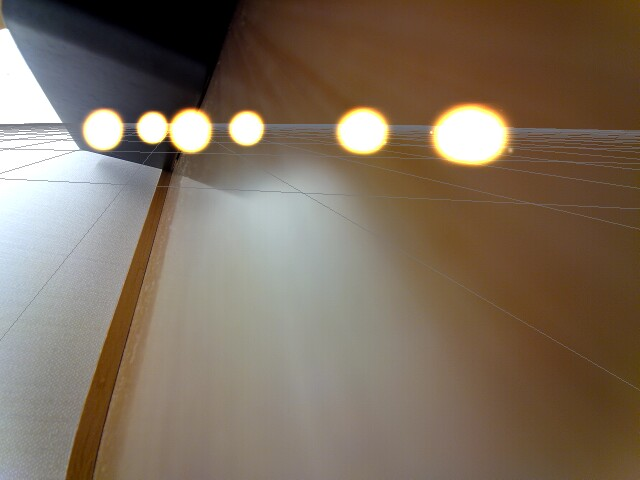firebig: (426, 96, 515, 183)
